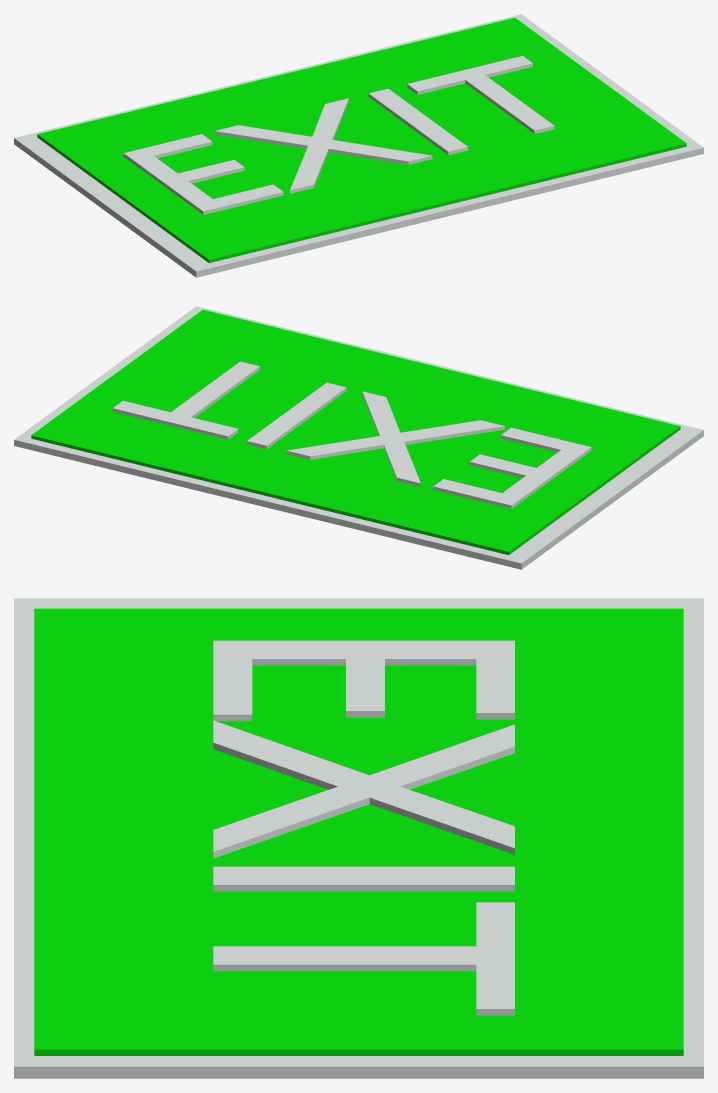
File: FireExitSignText.fbx
The picture shows the model from 3 angles, top to bottom: view 1: azimuth 30°, elevation 25°; view 2: azimuth 150°, elevation 25°; view 3: azimuth 270°, elevation 25°; orthographic projection. The views are drawn at different scales.
Parts seen in each view (by area): view 1: FireExitSignText; view 2: FireExitSignText; view 3: FireExitSignText.
Boxes of the visible parts, x1=… form: FireExitSignText: x1=14, y1=14, x2=703, y2=277; FireExitSignText: x1=14, y1=306, x2=703, y2=569; FireExitSignText: x1=14, y1=598, x2=703, y2=1078.
Bounding box in the file's own units: 44.96 × 27.99 × 1.11.
